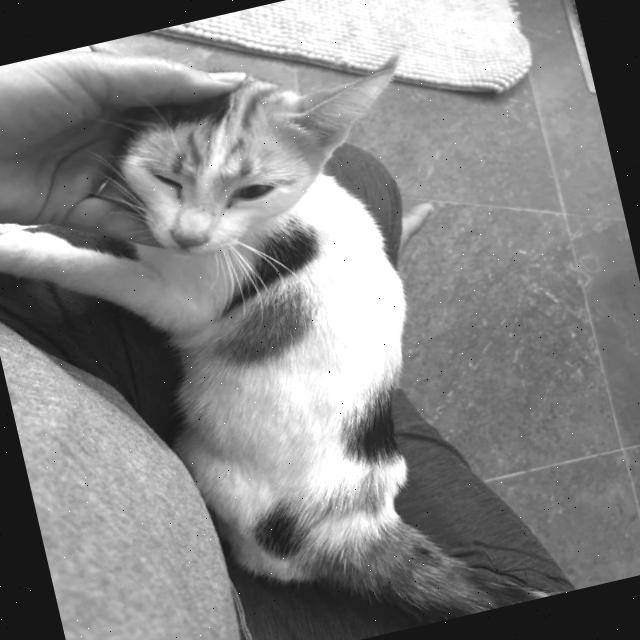calico_cat: (87, 28, 443, 280)
